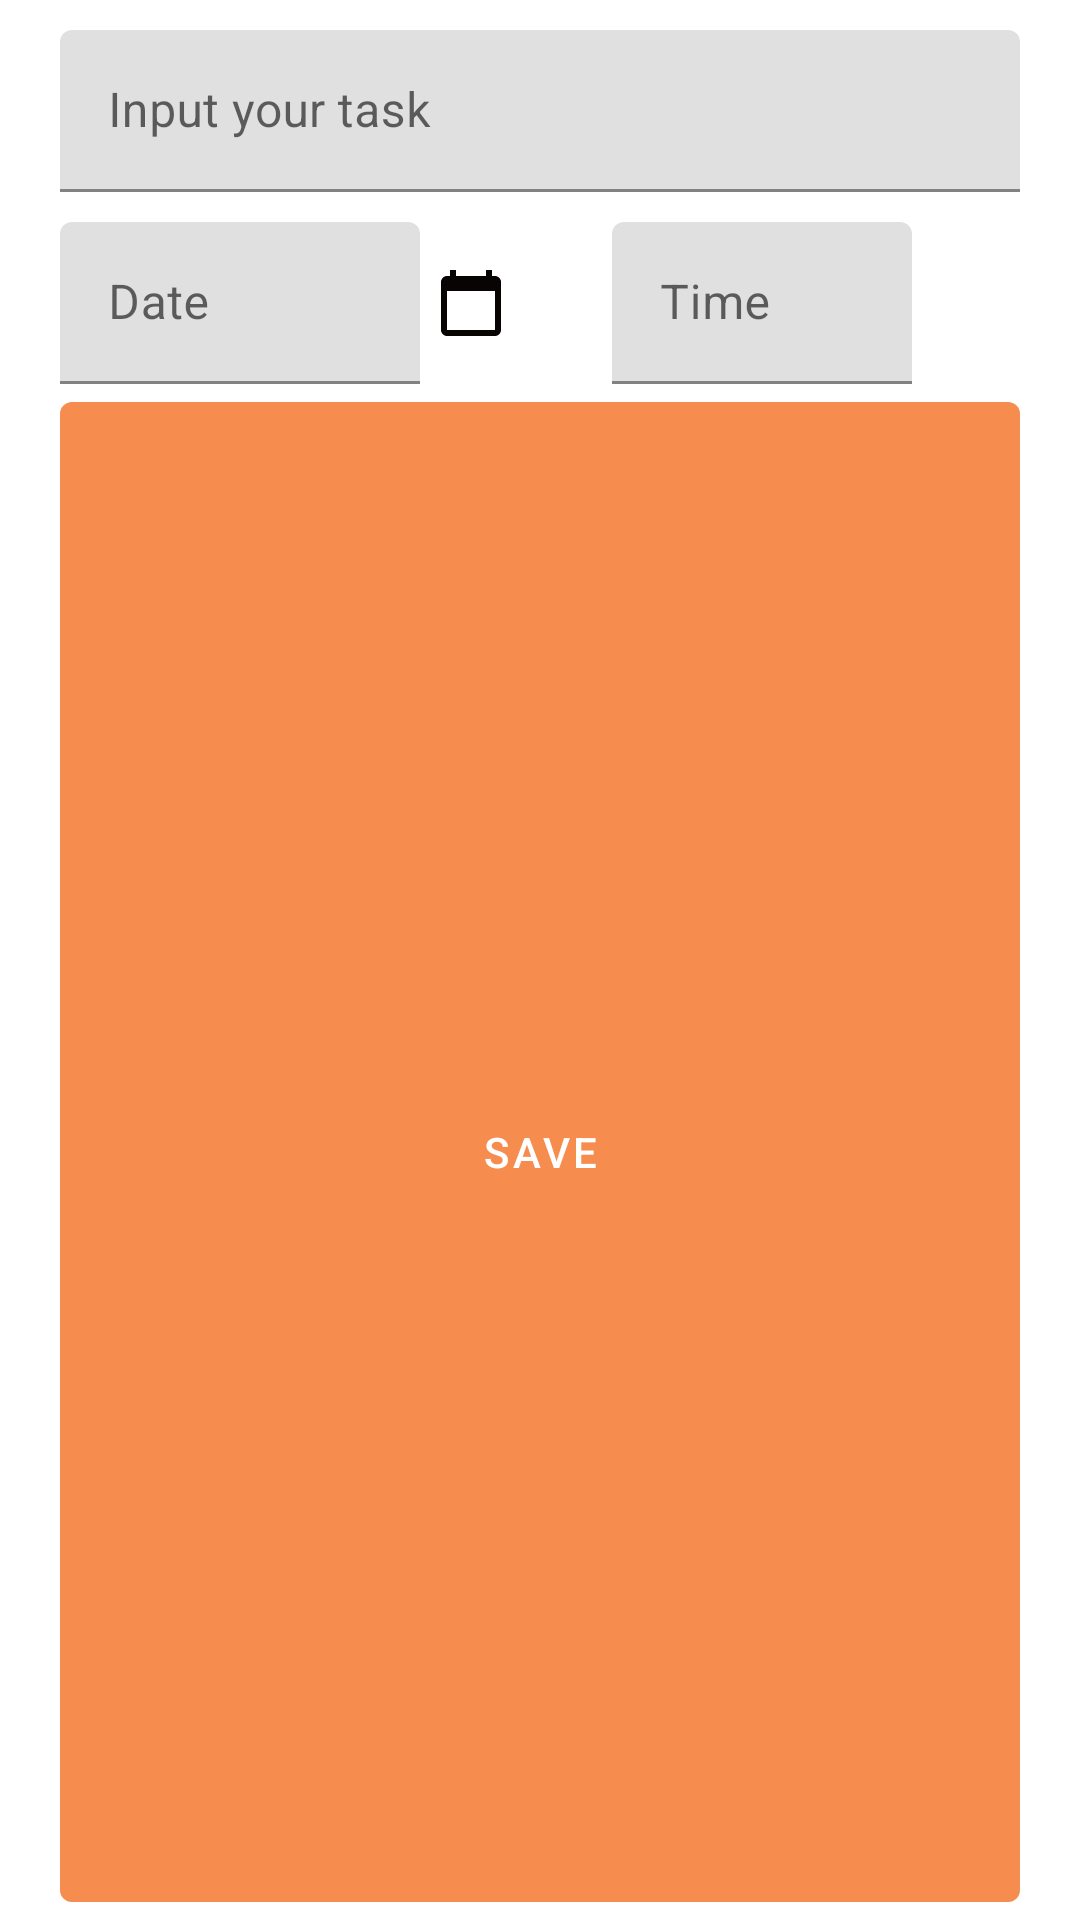

Icons on this 1080 × 1920 Android screen, each with its box as (x1, y1, x2, y2):
calendericon: (441, 270, 501, 336)
